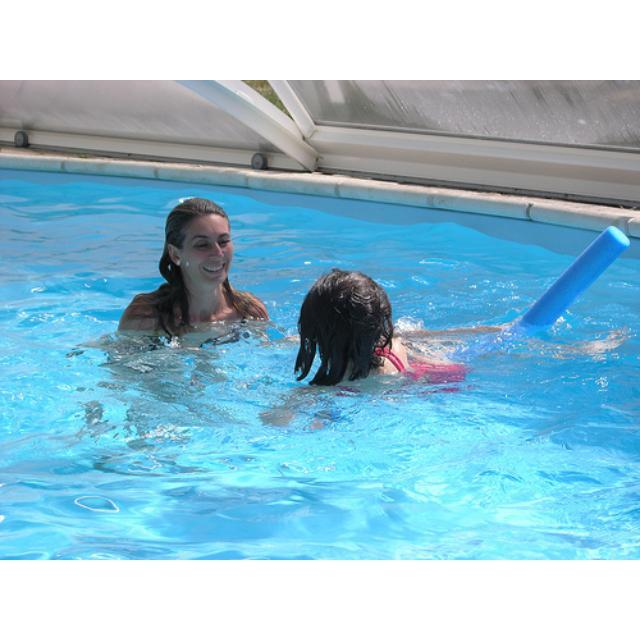human: (116, 194, 277, 348), (288, 262, 473, 396)
